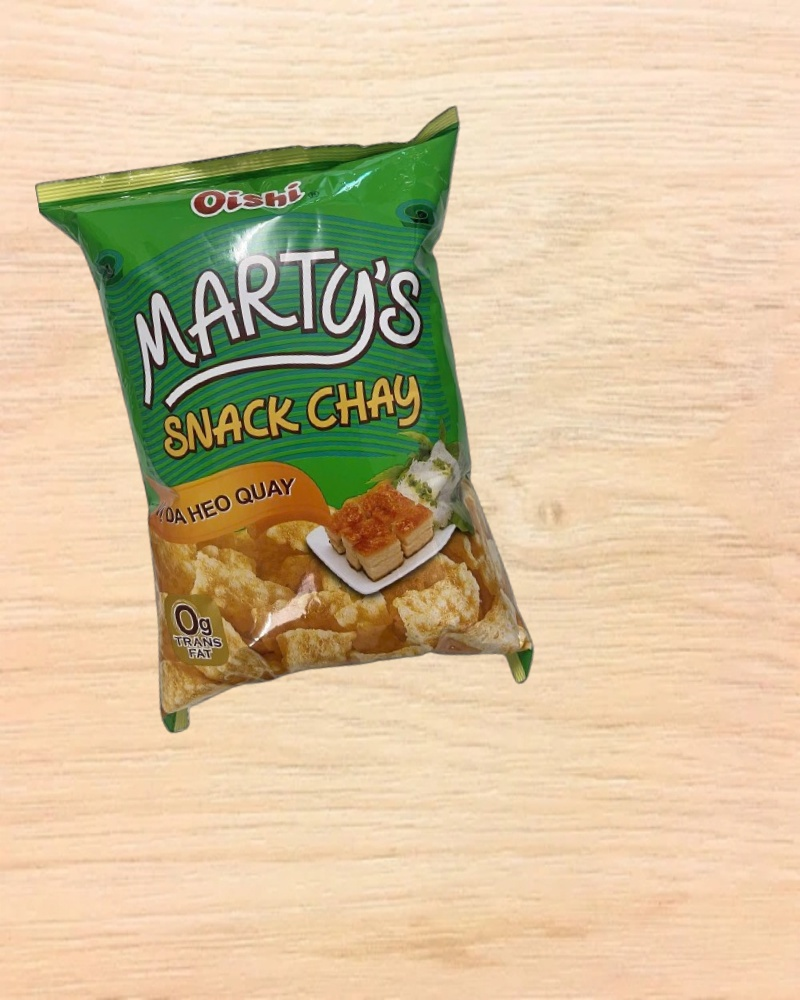Snack chay: (35, 106, 558, 752)
